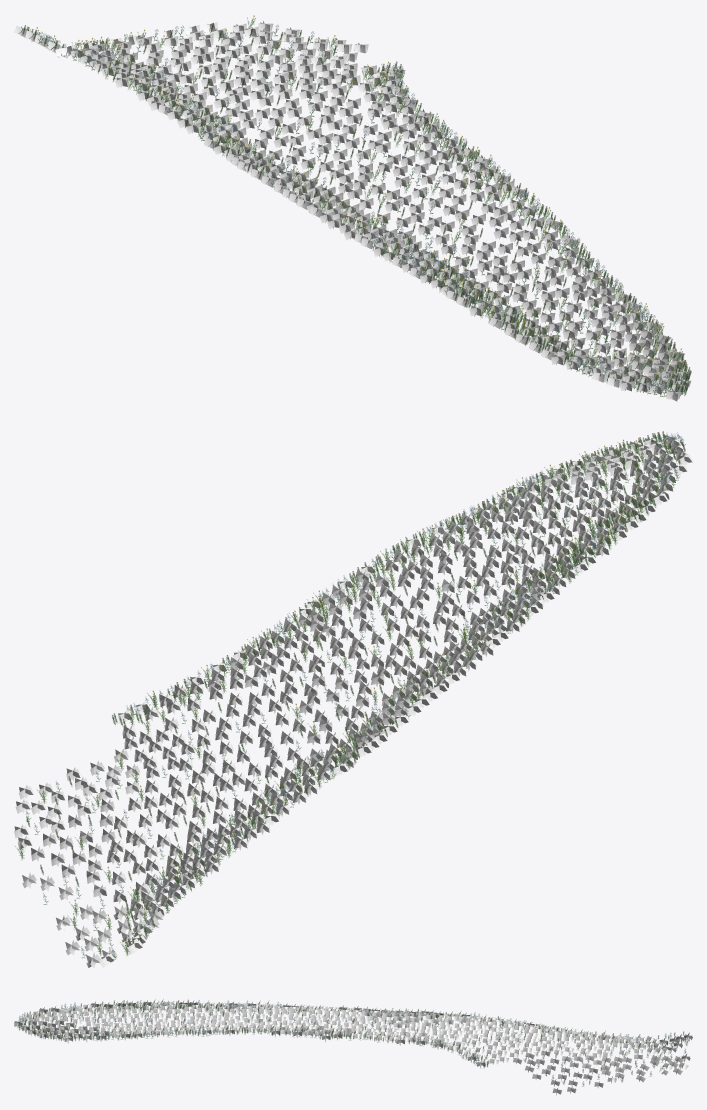
The model's file is grass_and_flowers_1.glb.
The picture shows the model from 3 angles, top to bottom: view 1: azimuth 30°, elevation 25°; view 2: azimuth 150°, elevation 25°; view 3: azimuth 270°, elevation 25°; orthographic projection. The views are drawn at different scales.
Visible parts, largest first — view 1: stk_grassAlpha.png__, BlackEyedSusan.png__, Flower5.png__, Flower3.png__, Flower3F.png__; view 2: stk_grassAlpha.png__, BlackEyedSusan.png__, Flower5.png__, Flower3.png__, Flower3F.png__; view 3: stk_grassAlpha.png__, BlackEyedSusan.png__, Flower5.png__, Flower3.png__, Flower3F.png__, Flower5F.png__.
Part boxes in pixels (left/top/right/bottom): stk_grassAlpha.png__: left=14, top=21, right=691, bottom=401; BlackEyedSusan.png__: left=30, top=15, right=688, bottom=391; Flower5.png__: left=22, top=23, right=690, bottom=395; Flower3.png__: left=37, top=25, right=668, bottom=396; Flower3F.png__: left=40, top=26, right=668, bottom=390; stk_grassAlpha.png__: left=14, top=433, right=692, bottom=968; BlackEyedSusan.png__: left=15, top=431, right=671, bottom=956; Flower5.png__: left=26, top=432, right=684, bottom=952; Flower3.png__: left=26, top=435, right=685, bottom=959; Flower3F.png__: left=26, top=432, right=683, bottom=951; stk_grassAlpha.png__: left=14, top=1000, right=692, bottom=1095; BlackEyedSusan.png__: left=23, top=999, right=688, bottom=1084; Flower5.png__: left=18, top=1000, right=689, bottom=1084; Flower3.png__: left=18, top=1001, right=685, bottom=1086; Flower3F.png__: left=20, top=1000, right=685, bottom=1084; Flower5F.png__: left=19, top=1000, right=689, bottom=1080.
Size of the model in its own units: 75.76 by 34.45 by 317.
6 materials, 5 textured.
